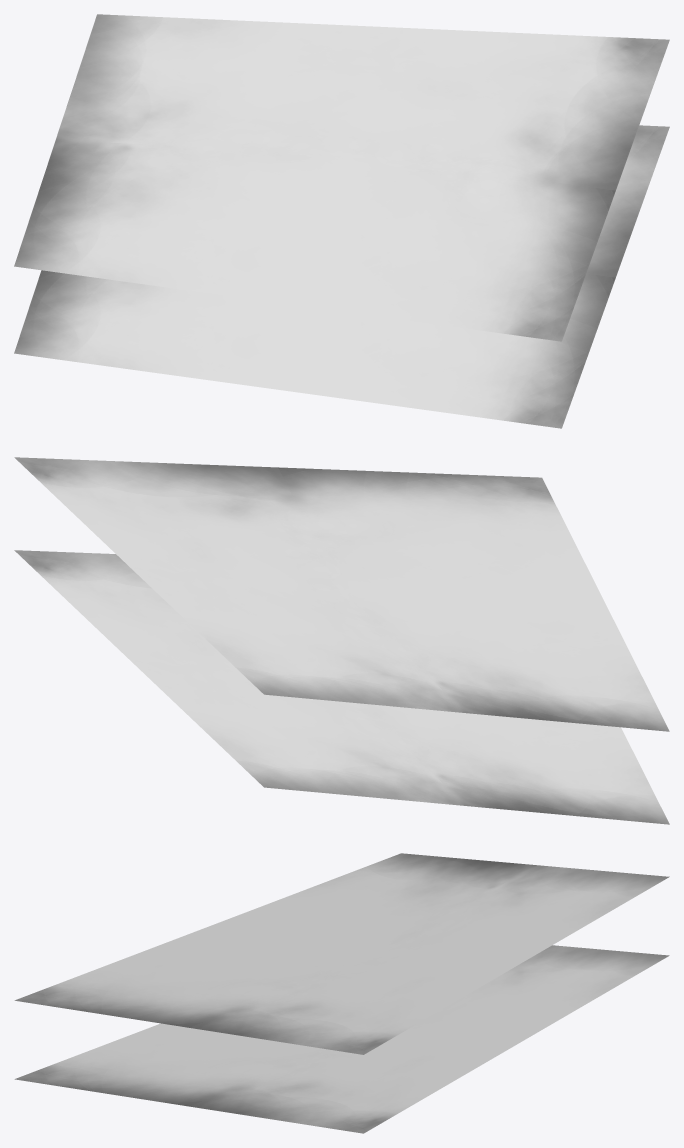
Rendered from CourseWinter_CurveFloor_8_4.fbx.
3 renders of one model, top to bottom at view 1: azimuth 30°, elevation 25°; view 2: azimuth 150°, elevation 25°; view 3: azimuth 270°, elevation 25°, orthographic. The views are drawn at different scales.
Parts seen in each view (by area): view 1: polySurface714; view 2: polySurface714; view 3: polySurface714.
Boxes of the visible parts, x1,y1,x2,y2 form: polySurface714: (14, 14, 669, 428); polySurface714: (14, 457, 669, 824); polySurface714: (14, 853, 669, 1133).
Bounding box in the file's own units: 7.64 × 2 × 7.55.
1 material, 1 textured.
